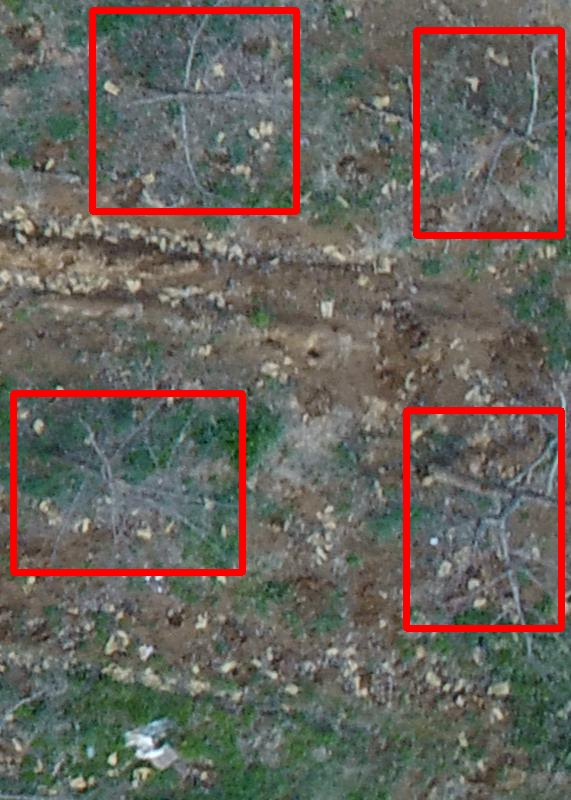apple: (92, 10, 296, 211), (13, 393, 242, 572), (406, 410, 561, 628), (416, 30, 561, 235)
